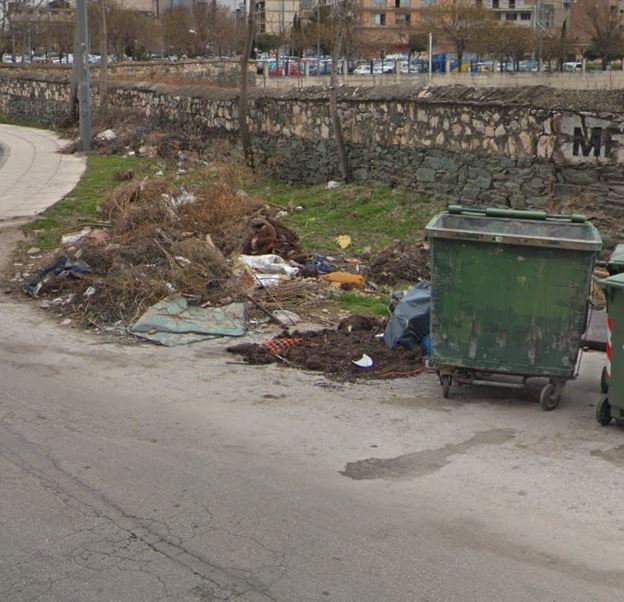trash: (16, 150, 453, 386)
